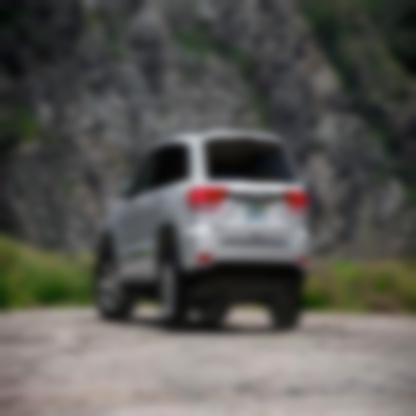Vehicle: (94, 130, 308, 328)
